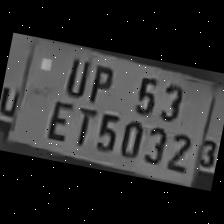0: (115, 113, 146, 161)
2: (162, 128, 195, 175)
3: (154, 77, 187, 123), (140, 120, 170, 166)
5: (89, 106, 122, 154), (128, 70, 162, 116)
E: (42, 94, 76, 146)
P: (82, 57, 116, 105)
T: (67, 103, 97, 148)
U: (58, 50, 94, 100)
